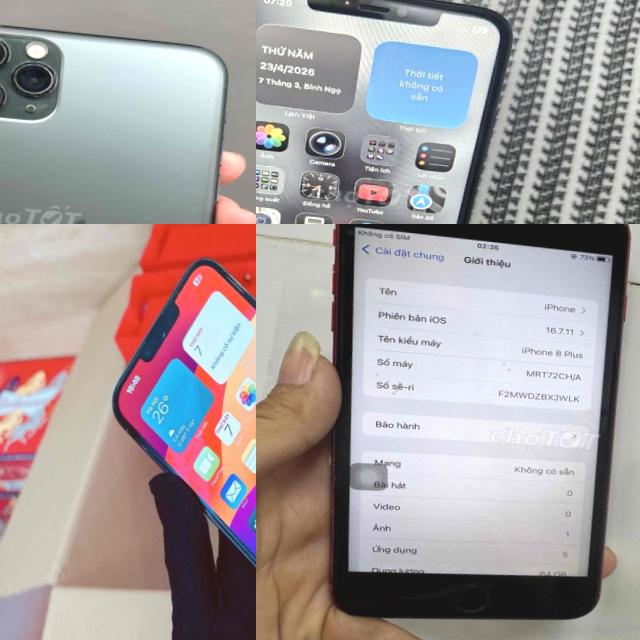gen_11: (256, 0, 517, 224), (0, 10, 245, 224)
gen_12_13: (88, 246, 256, 640)
gen_7_8: (288, 224, 640, 639)
